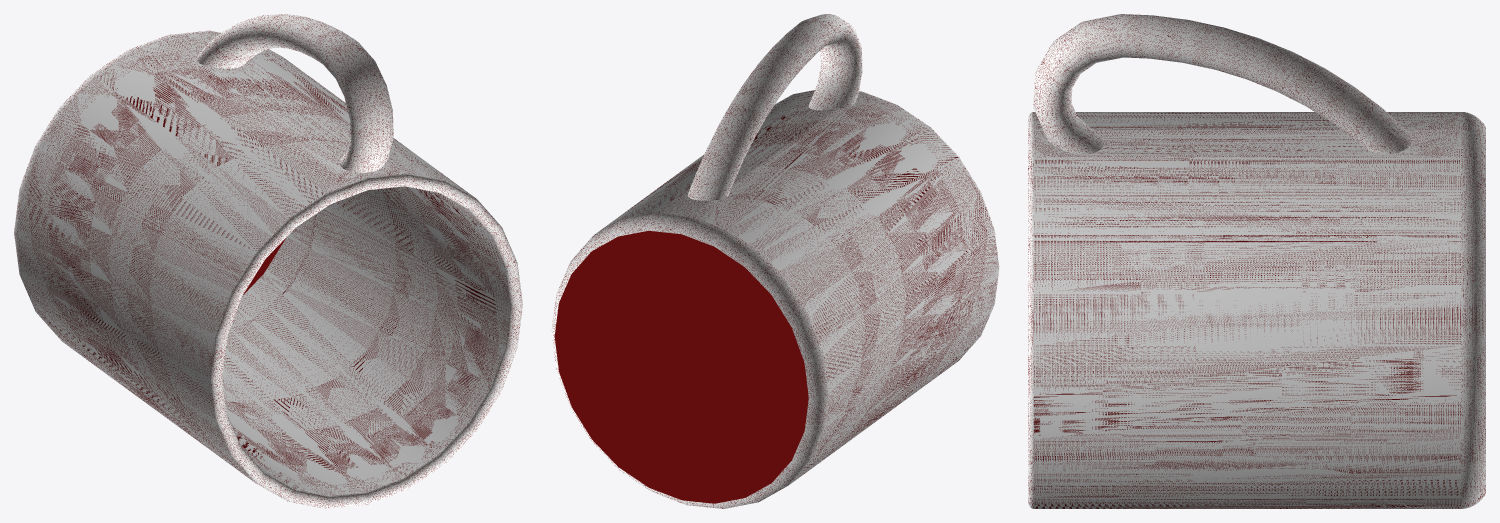
Rendered from model_align.obj.
3 renders of one model, left to right at view 1: azimuth 30°, elevation 25°; view 2: azimuth 150°, elevation 25°; view 3: azimuth 270°, elevation 25°, orthographic. The views are drawn at different scales.
Visible parts, largest first — view 1: mesh1_mesh1-geometry; view 2: mesh1_mesh1-geometry; view 3: mesh1_mesh1-geometry.
Boxes of the visible parts, x1=… form: mesh1_mesh1-geometry: x1=14, y1=14, x2=522, y2=508; mesh1_mesh1-geometry: x1=551, y1=14, x2=999, y2=508; mesh1_mesh1-geometry: x1=1028, y1=14, x2=1485, y2=508.
Size of the model in its own units: 0.0796 by 0.1058 by 0.0915.
